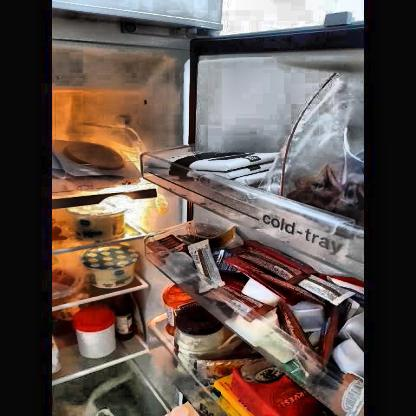butter: (206, 376, 313, 414)
chocolate: (155, 149, 268, 184)
dates: (294, 154, 366, 222)
salami: (56, 139, 134, 176)
yoghurt: (66, 206, 132, 242), (84, 246, 139, 287)
